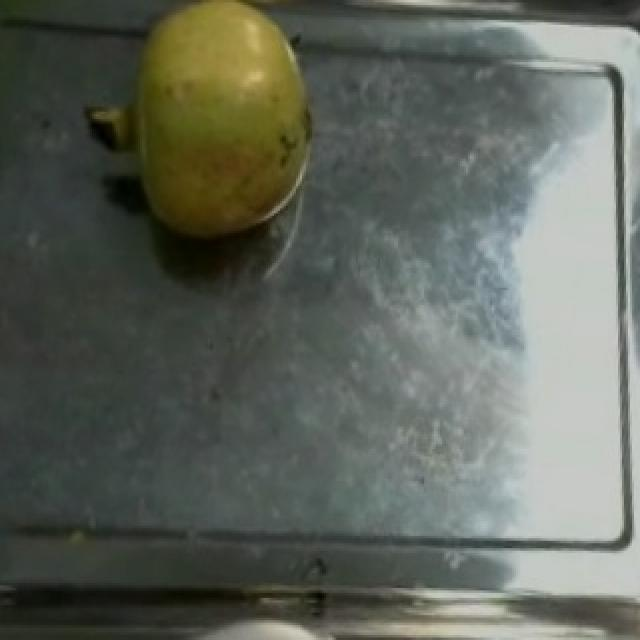fruit: (72, 0, 340, 256)
